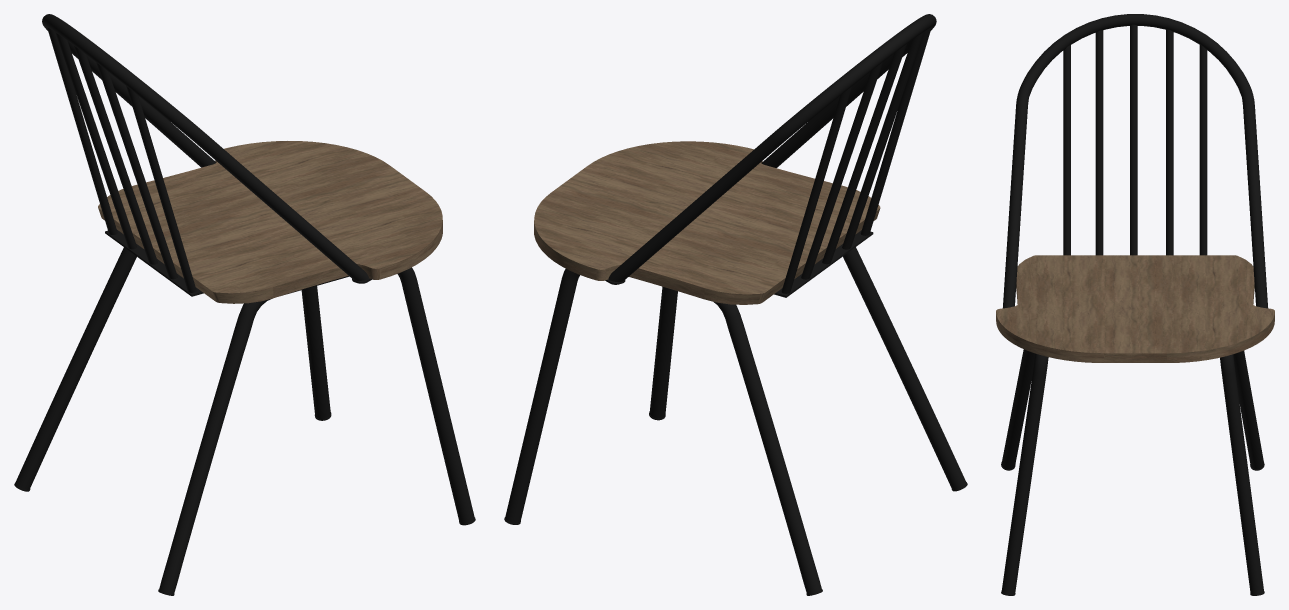
The model's file is silla2.glb.
The picture shows the model from 3 angles, left to right: view 1: azimuth 30°, elevation 25°; view 2: azimuth 150°, elevation 25°; view 3: azimuth 270°, elevation 25°; orthographic projection. The views are drawn at different scales.
Parts seen in each view (by area): view 1: object_22_CENIZO_0, object_31_NEGRO METAL_0, object_40_NEGRO METAL_0, object_30_NEGRO METAL_0, Cilindro, Cilindro.001, Cilindro.004, Cilindro.003, Cilindro.002, object_36_NEGRO METAL_0; view 2: object_22_CENIZO_0, object_30_NEGRO METAL_0, object_40_NEGRO METAL_0, object_31_NEGRO METAL_0, Cilindro, Cilindro.004, Cilindro.001, Cilindro.002, Cilindro.003, object_36_NEGRO METAL_0; view 3: object_22_CENIZO_0, object_40_NEGRO METAL_0, object_31_NEGRO METAL_0, object_30_NEGRO METAL_0, Cilindro.004, Cilindro.002, Cilindro, Cilindro.001, Cilindro.003.
Boxes of the visible parts, x1,y1,x2,y2 form: object_22_CENIZO_0: [98, 141, 442, 303]; object_31_NEGRO METAL_0: [159, 267, 474, 593]; object_40_NEGRO METAL_0: [42, 14, 368, 280]; object_30_NEGRO METAL_0: [15, 247, 330, 489]; Cilindro: [73, 45, 157, 264]; Cilindro.001: [55, 32, 137, 249]; Cilindro.004: [96, 62, 177, 279]; Cilindro.003: [126, 86, 196, 292]; Cilindro.002: [47, 27, 117, 234]; object_36_NEGRO METAL_0: [105, 230, 203, 296]; object_22_CENIZO_0: [534, 141, 880, 304]; object_30_NEGRO METAL_0: [505, 269, 821, 593]; object_40_NEGRO METAL_0: [608, 14, 936, 281]; object_31_NEGRO METAL_0: [649, 247, 966, 489]; Cilindro: [822, 44, 906, 264]; Cilindro.004: [842, 32, 923, 249]; Cilindro.001: [801, 62, 882, 279]; Cilindro.002: [781, 86, 852, 293]; Cilindro.003: [860, 27, 931, 235]; object_36_NEGRO METAL_0: [774, 230, 873, 297]; object_22_CENIZO_0: [996, 255, 1274, 362]; object_40_NEGRO METAL_0: [1003, 14, 1267, 308]; object_31_NEGRO METAL_0: [1001, 349, 1048, 594]; object_30_NEGRO METAL_0: [1220, 350, 1264, 594]; Cilindro.004: [1095, 30, 1103, 255]; Cilindro.002: [1199, 45, 1207, 255]; Cilindro: [1130, 24, 1137, 255]; Cilindro.001: [1166, 29, 1173, 255]; Cilindro.003: [1063, 45, 1070, 255].
Size of the model in its own units: 0.7086 by 1.03 by 0.5824.
Materials: 2 (1 with a texture image).
